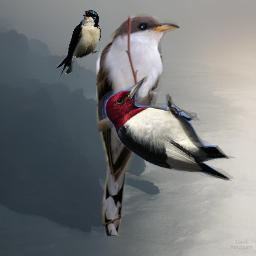Cuckoo: (94, 13, 180, 236)
Swallow: (56, 10, 101, 77)
Woodpecker: (98, 75, 238, 181)
